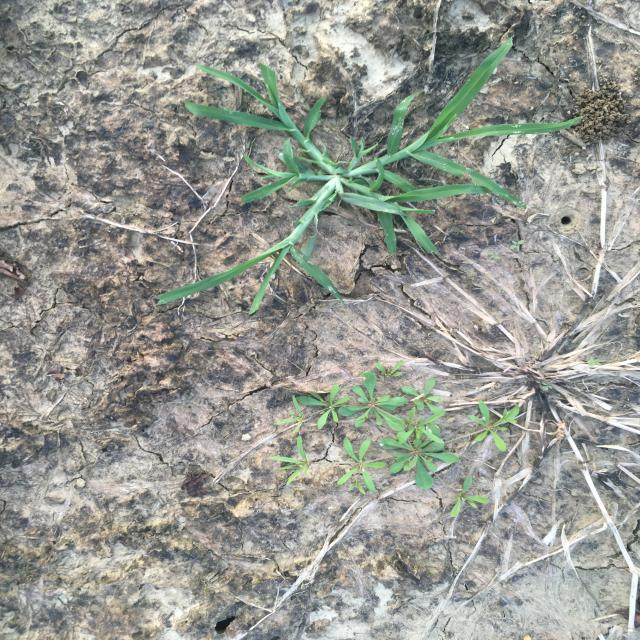Carpetweed: (269, 360, 522, 520)
Goosegrass: (152, 35, 586, 317)
